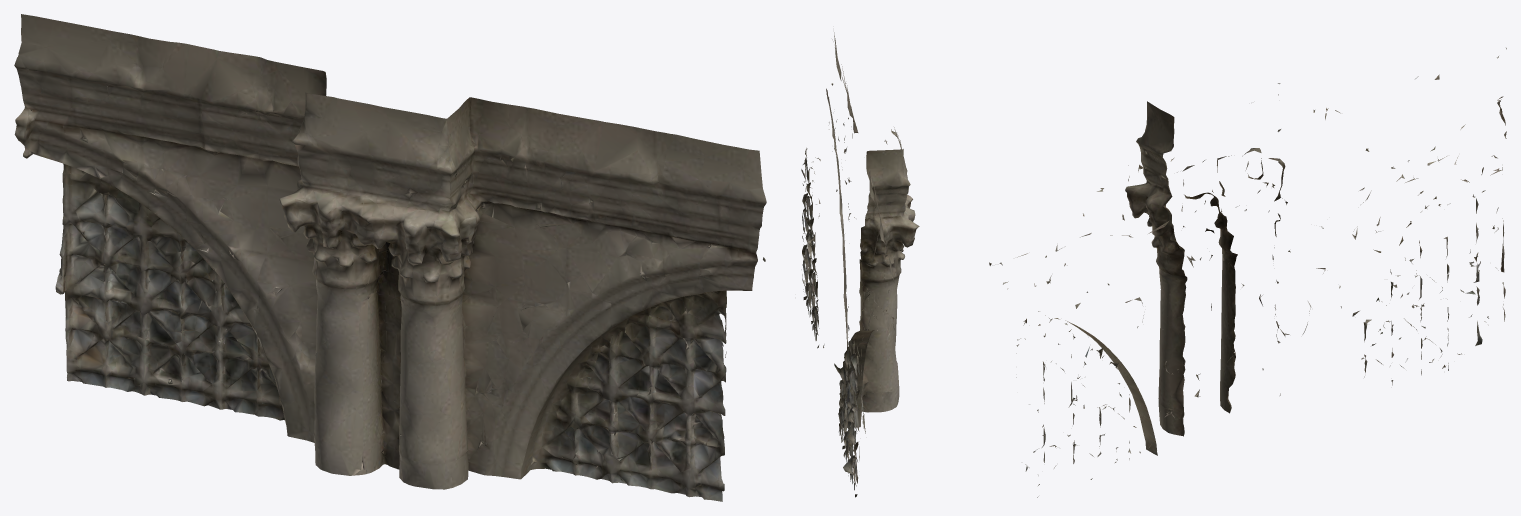
3 renders of one model, left to right at view 1: azimuth 30°, elevation 25°; view 2: azimuth 150°, elevation 25°; view 3: azimuth 270°, elevation 25°, orthographic. The views are drawn at different scales.
Size of the model in its own units: 5.35 by 4.59 by 7.3.
1 material, 1 textured.
